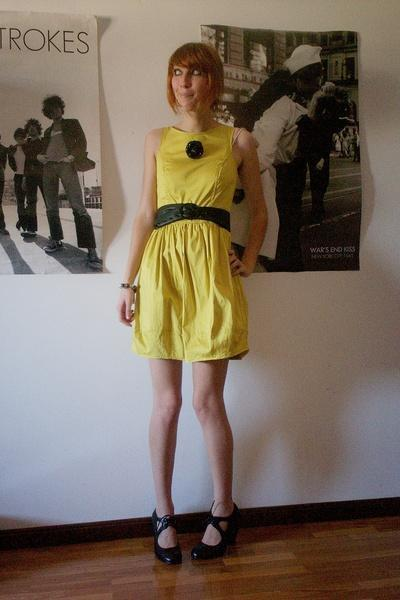dress: (132, 124, 240, 362)
shoe: (156, 504, 244, 569)
